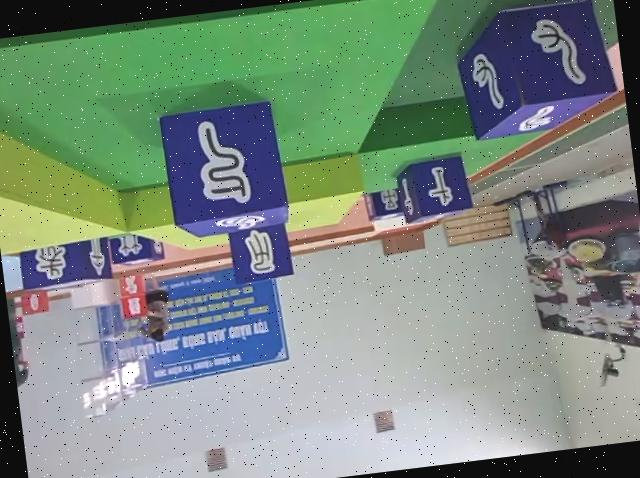R2 Fake Blue: (155, 95, 290, 238), (18, 236, 112, 292), (228, 219, 295, 285)
R2 Real Blue: (452, 0, 621, 137), (395, 151, 474, 223), (107, 230, 165, 268), (360, 185, 402, 220)
